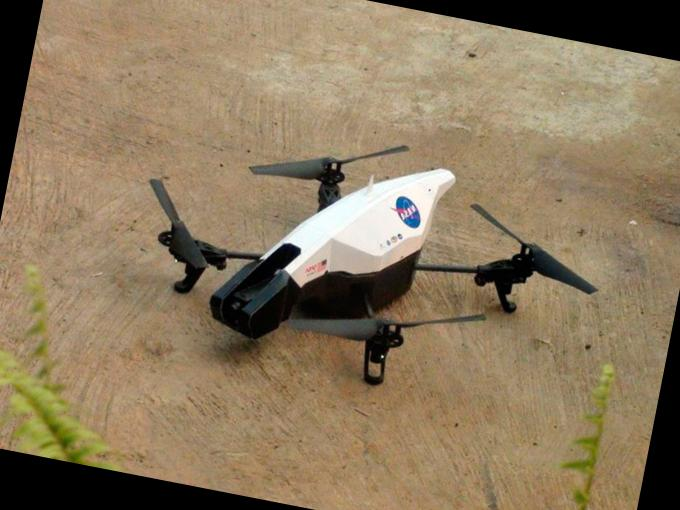drone: (113, 85, 620, 407)
